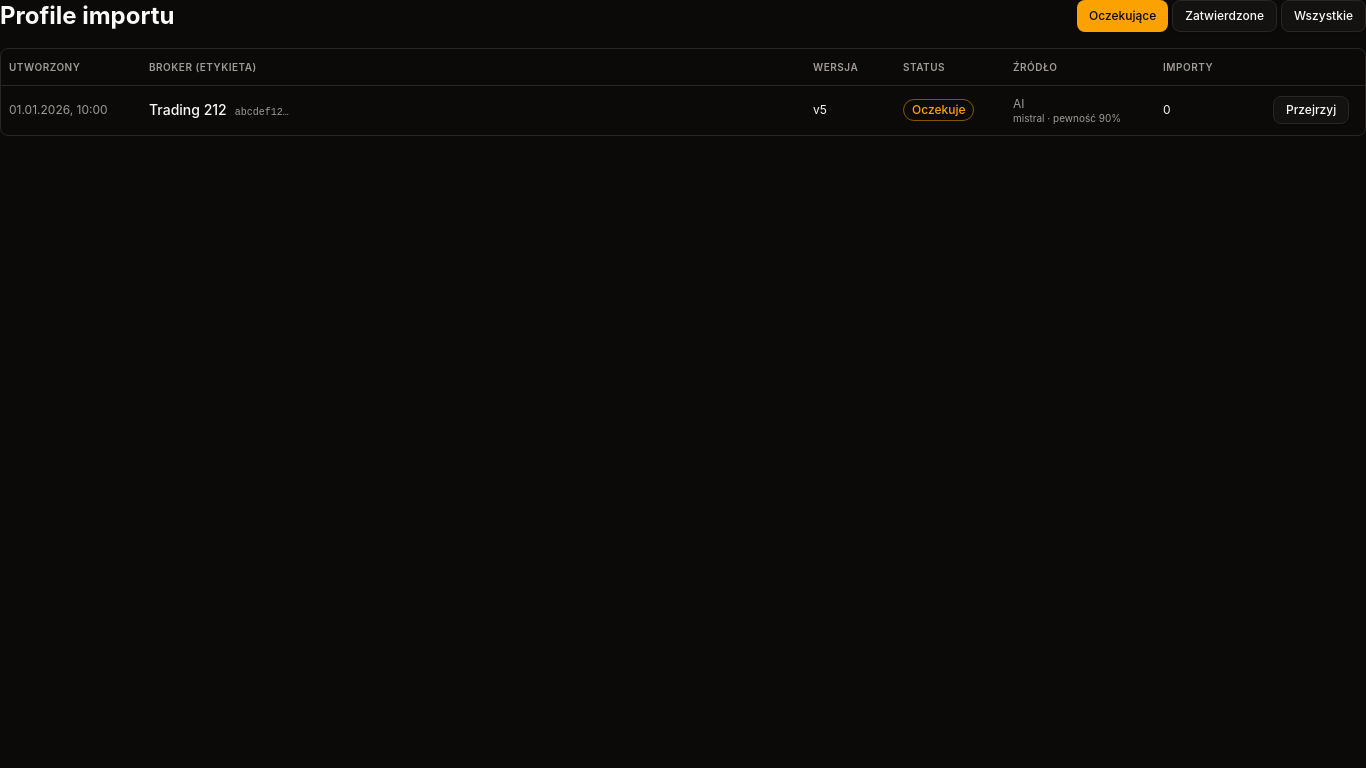
Test: ImportProfilesPage — review › „Dodaj regułę" woła adminUpdateImportProfile z dołożoną regułą classify
Click the button "Przejrzyj": (1311, 110) [1273,96,1349,124]
(page scrolled)
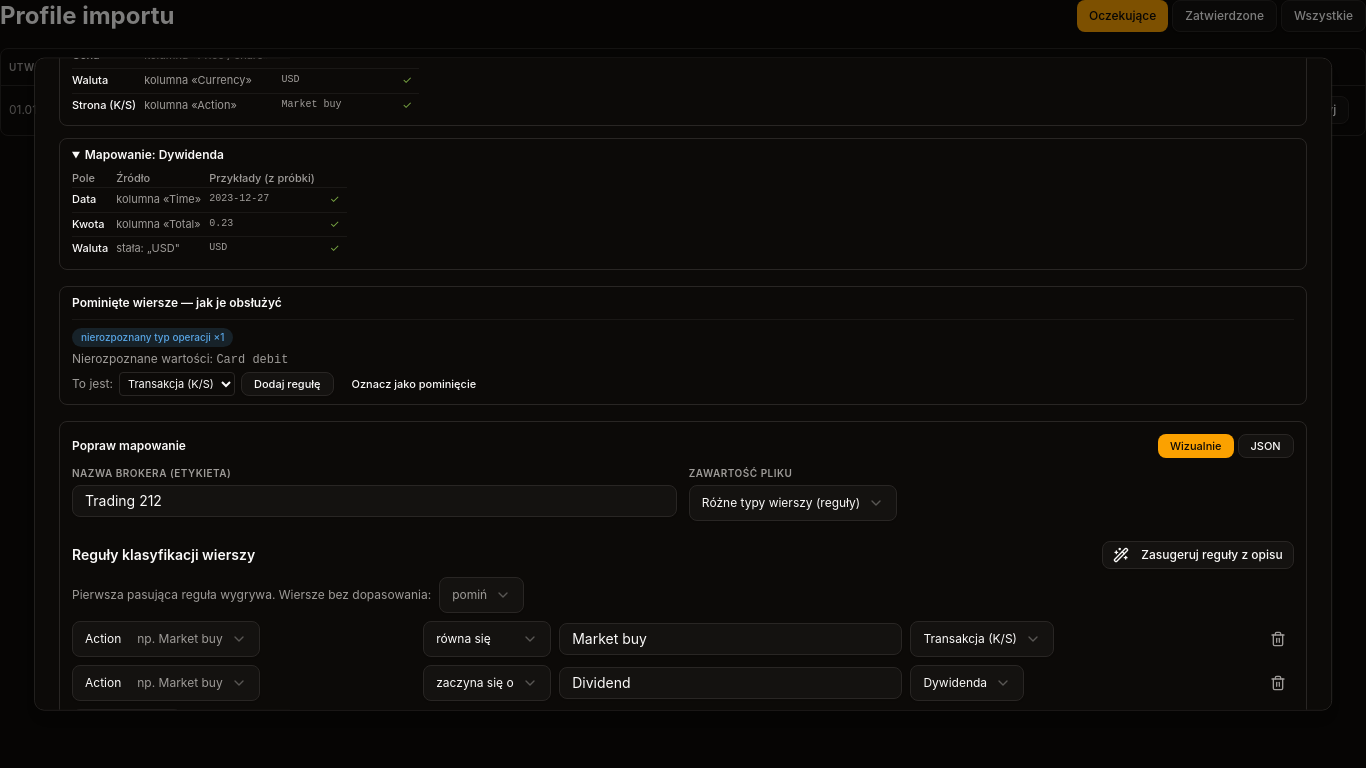
Click the button "Dodaj regułę": (287, 384) [241,372,334,396]
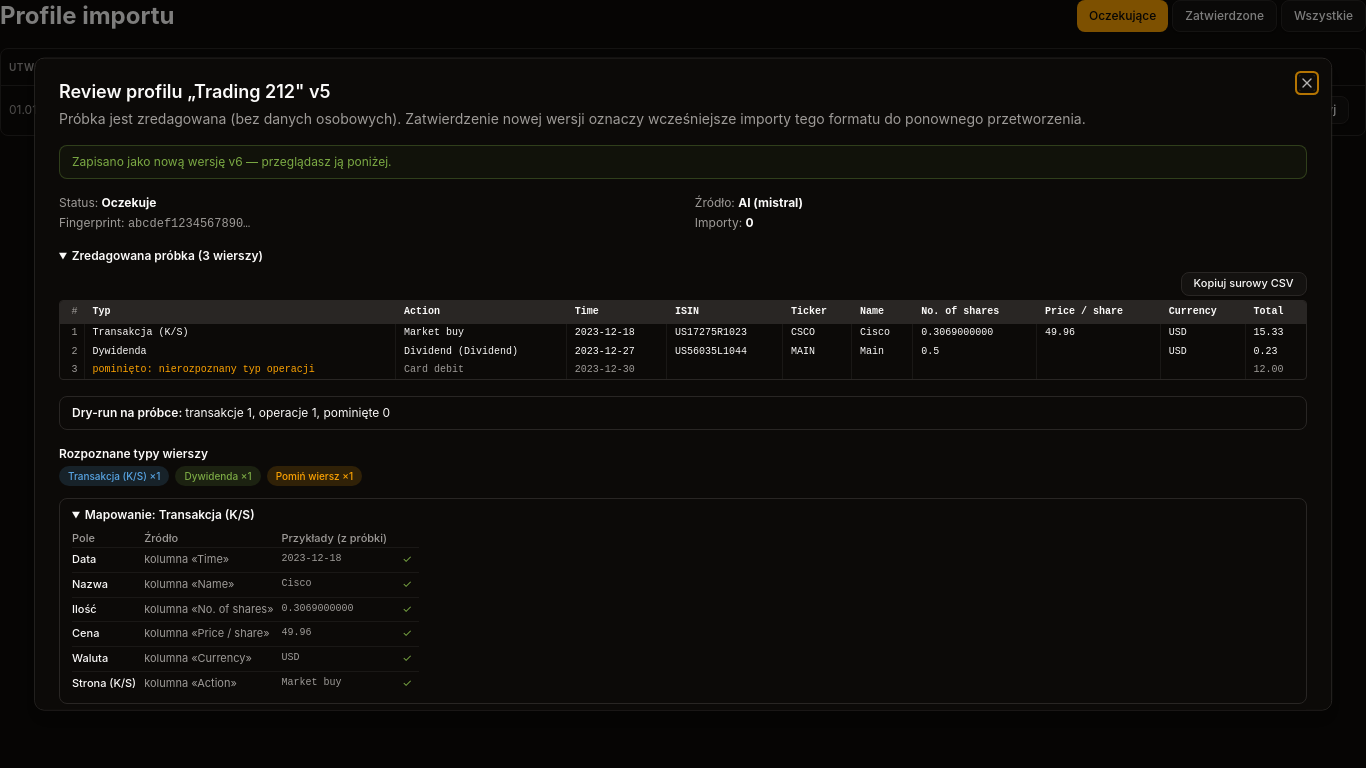
Now the text "Zapisano jako nową wersję v6 — przeglądasz ją poniżej." is shown, box [59,145,1307,179]
